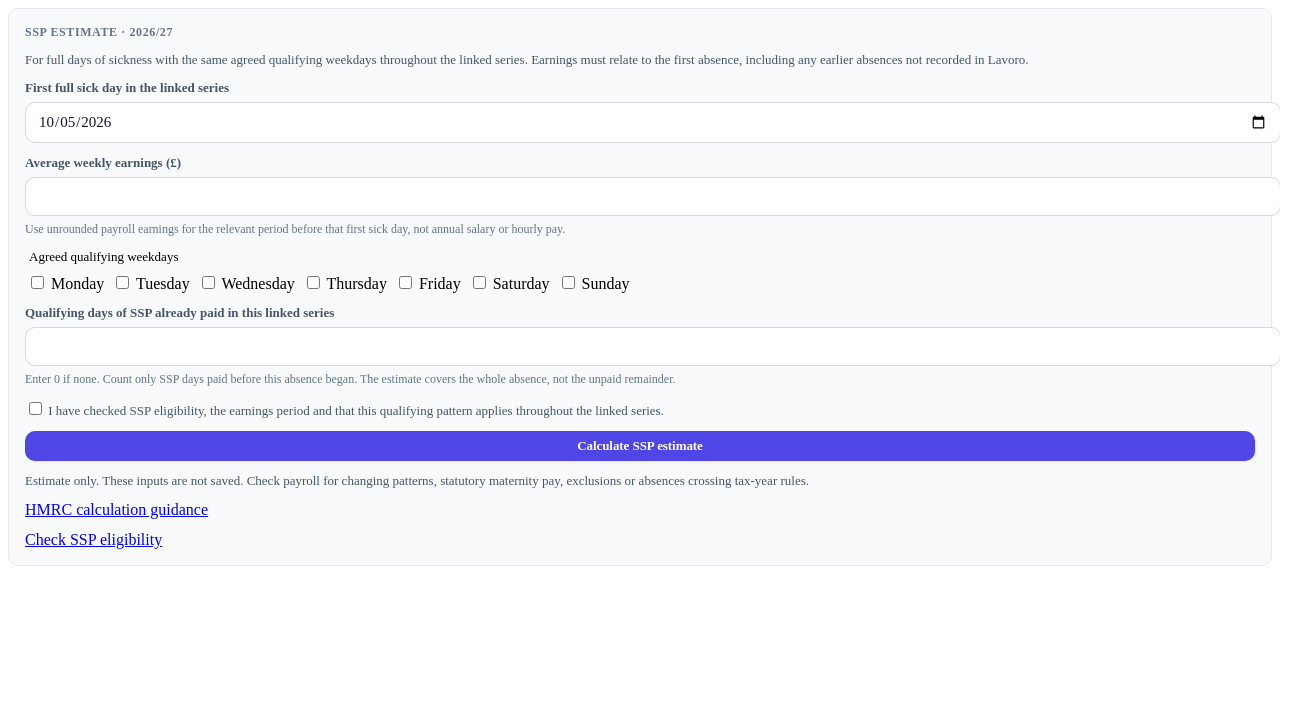
Test case: does not assume weekdays when none are configured
Type "100" into the number field labelled "Average weekly earnings (£)". click: coordinates (652, 196)
box: [25,177,1280,216]
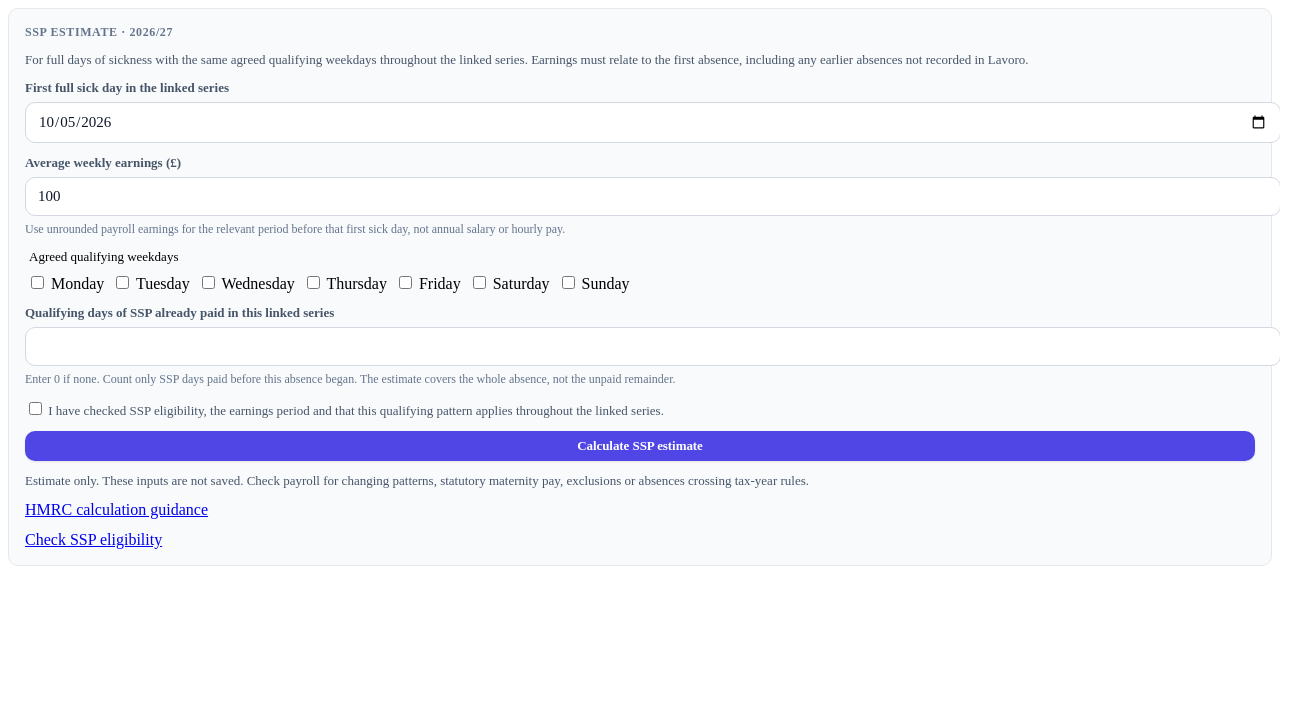
Type "0" into the number field labelled "Qualifying days of SSP already paid in this linked series". click: coordinates (652, 346)
box: [25,327,1280,366]
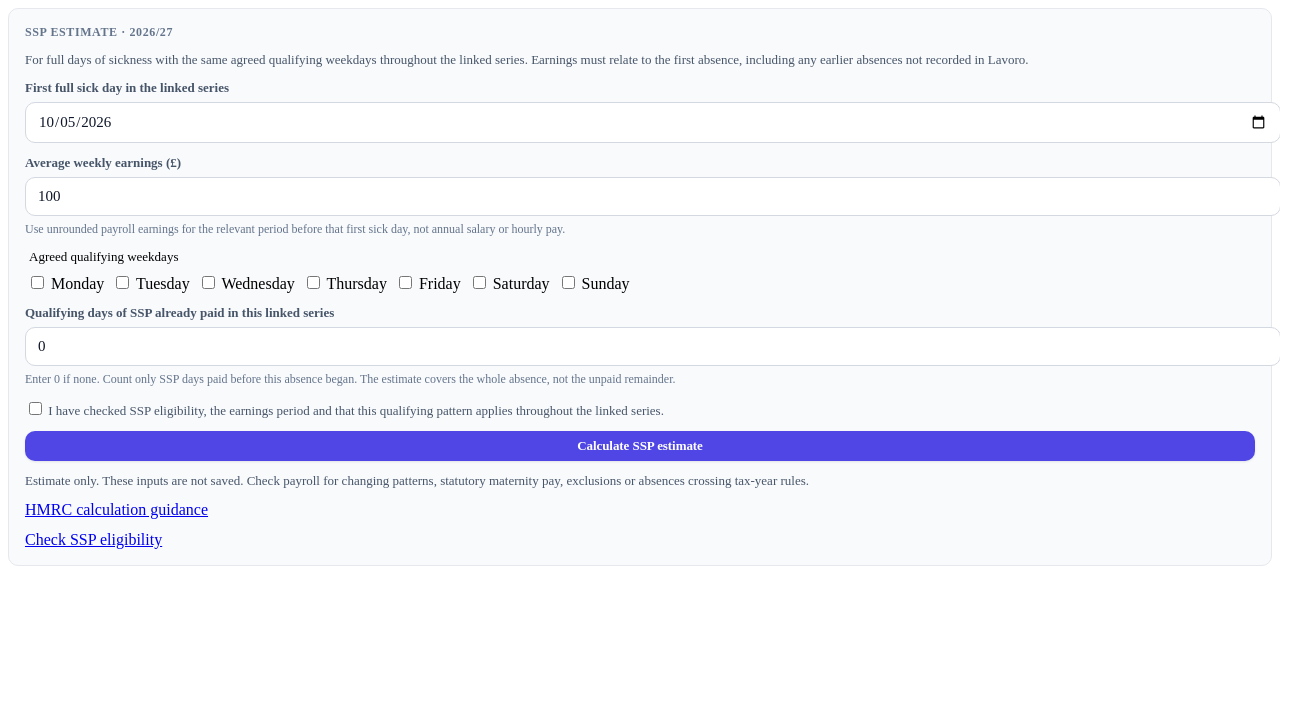
Click the checkbox labelled "I have checked SSP eligibility". click: coordinates (36, 408)
box: [29,402,42,415]
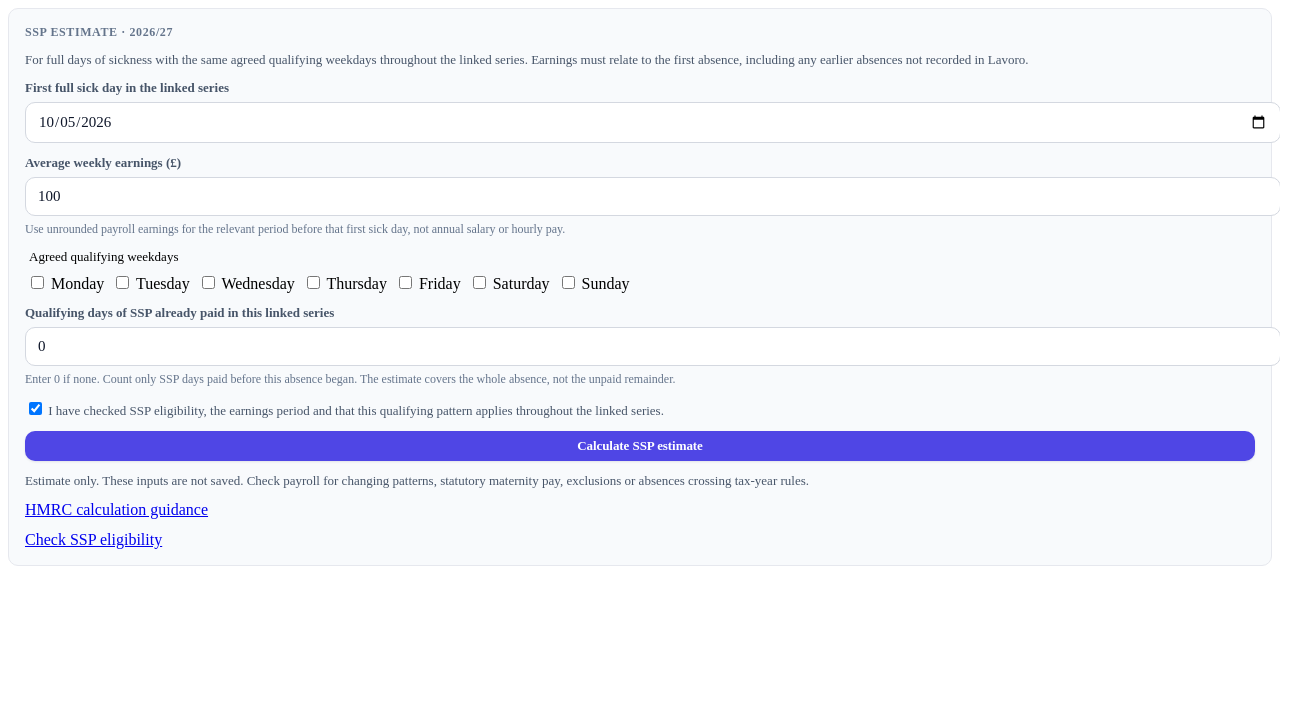
Click the button "Calculate SSP estimate". click: coordinates (640, 446)
box: [25,431,1255,461]
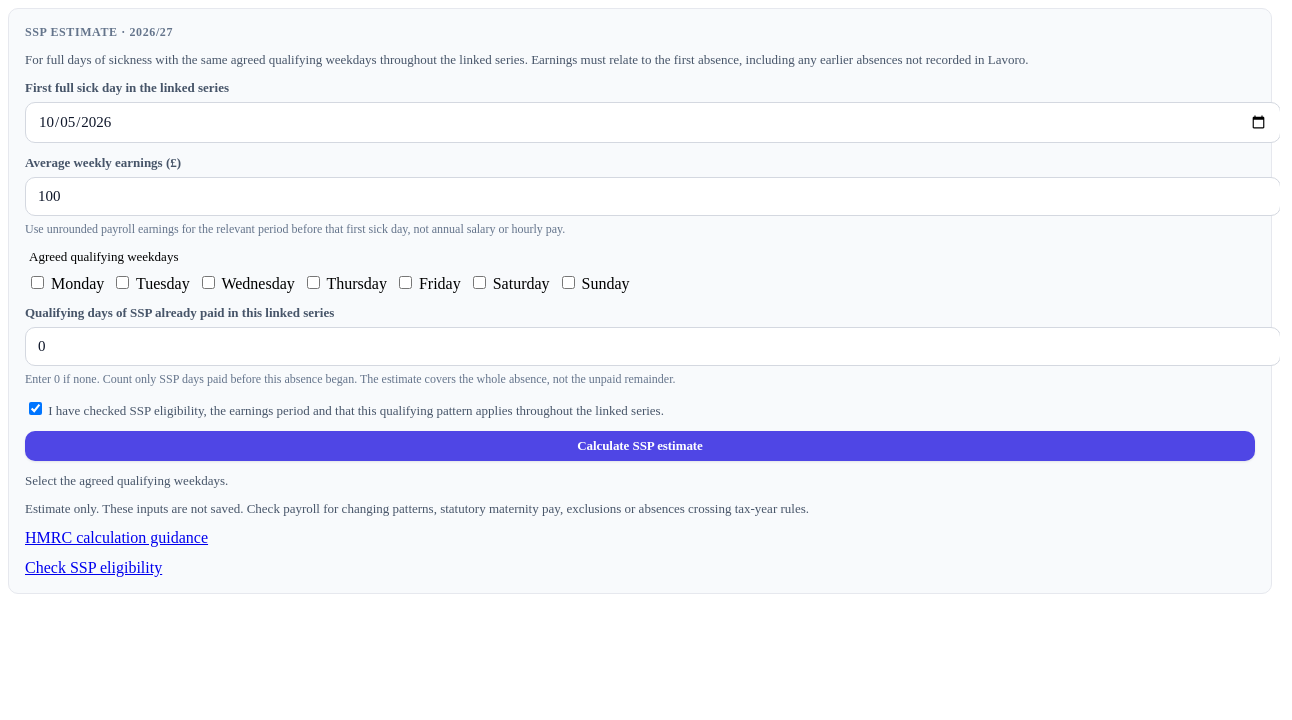
Now the message shows "qualifying weekdays", box [25,473,228,488]
